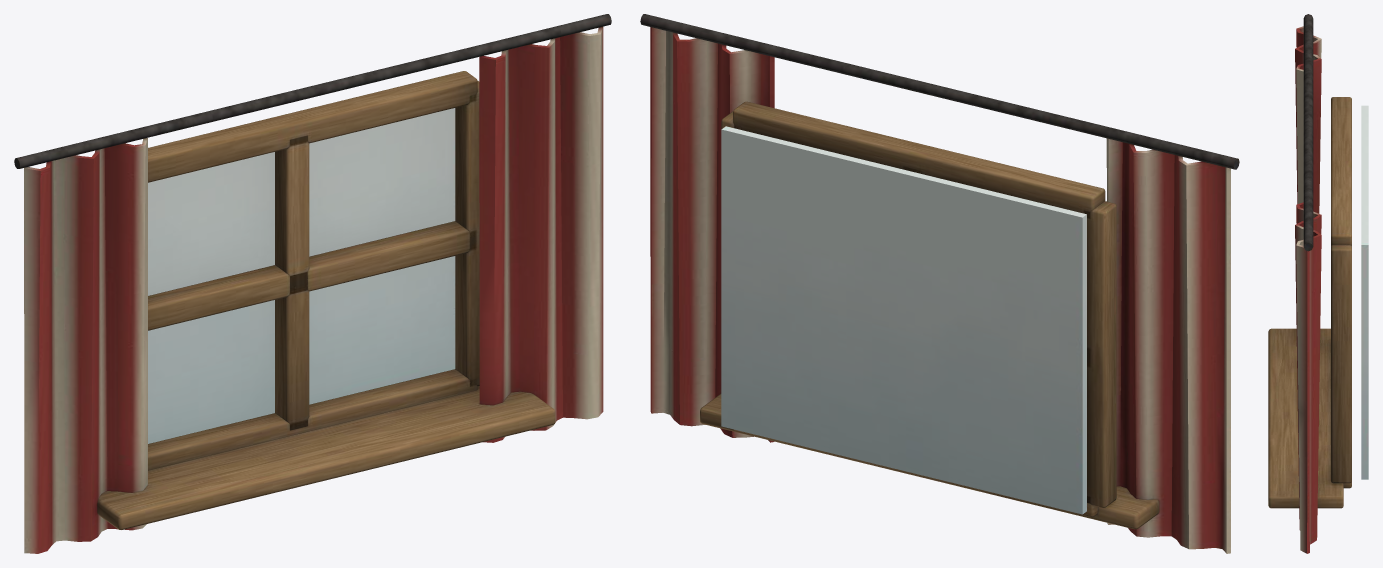
The model's file is home_window.glb.
3 renders of one model, left to right at view 1: azimuth 30°, elevation 25°; view 2: azimuth 150°, elevation 25°; view 3: azimuth 270°, elevation 25°, orthographic. The views are drawn at different scales.
Visible parts, largest first — view 1: home_window; view 2: home_window; view 3: home_window.
Boxes of the visible parts, bbox=[...] form: home_window: bbox=[14, 14, 611, 553]; home_window: bbox=[640, 14, 1239, 553]; home_window: bbox=[1268, 14, 1368, 553].
Bounding box in the file's own units: 2.3 × 1.47 × 0.425.
1 material, 1 textured.
